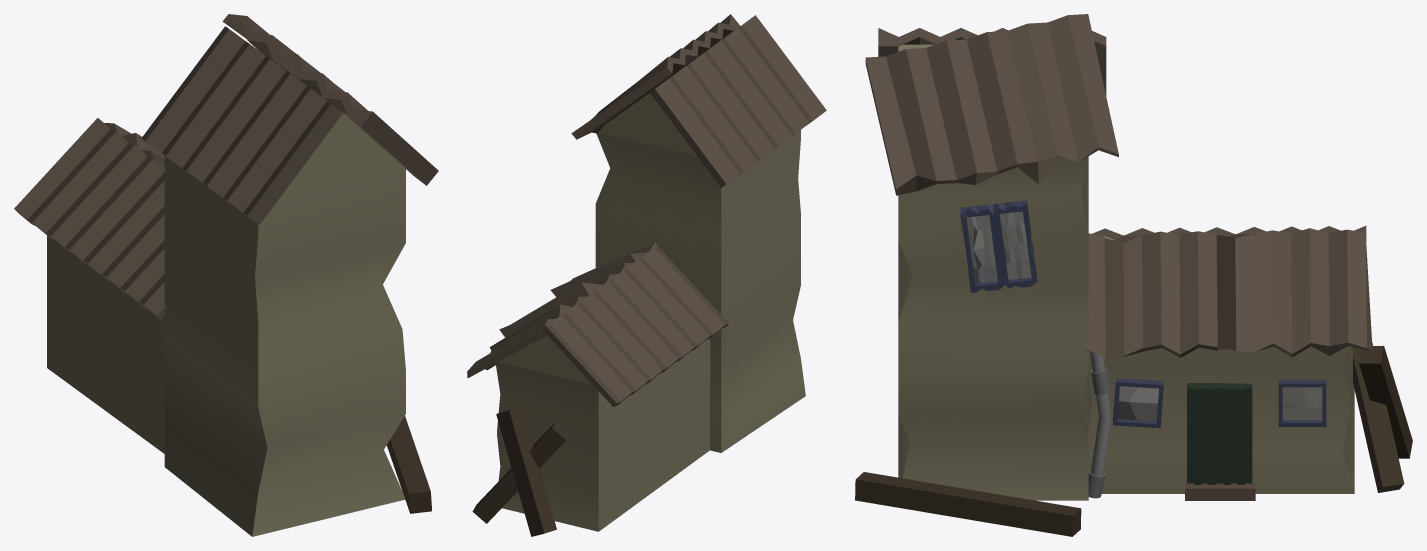
File: HOUSE 1 DAMAGED brown roof.fbx
The picture shows the model from 3 angles, left to right: view 1: azimuth 30°, elevation 25°; view 2: azimuth 150°, elevation 25°; view 3: azimuth 270°, elevation 25°; orthographic projection. The views are drawn at different scales.
Parts seen in each view (by area): view 1: pCube1, pCube4, pCube6, pCube2, pCube3, pCube11, pCube5; view 2: pCube1, pCube2, pCube4, pCube6, pCube14, pCube5, pCube3; view 3: pCube1, pCube5, pCube3, pCube2, pCube11, pCube7, pCube10, pCube14, pCube8, pCube9, pCube4, pCylinder1 (+2 smaller).
Part boxes in pixels (x1,y1,x2,y2): pCube1: [164, 78, 405, 536]; pCube4: [141, 26, 342, 224]; pCube6: [14, 118, 165, 319]; pCube2: [47, 235, 164, 453]; pCube3: [222, 14, 438, 185]; pCube11: [386, 416, 431, 513]; pCube5: [104, 123, 164, 167]; pCube1: [595, 93, 805, 452]; pCube2: [495, 258, 710, 531]; pCube4: [650, 15, 826, 187]; pCube6: [542, 246, 729, 406]; pCube14: [472, 406, 568, 536]; pCube5: [467, 242, 657, 377]; pCube3: [571, 14, 740, 139]; pCube1: [898, 44, 1088, 500]; pCube5: [1086, 228, 1372, 358]; pCube3: [865, 14, 1118, 195]; pCube2: [1087, 236, 1354, 493]; pCube11: [855, 472, 1081, 536]; pCube7: [1187, 383, 1252, 484]; pCube10: [960, 200, 1037, 292]; pCube14: [1352, 341, 1412, 492]; pCube8: [1113, 378, 1163, 428]; pCube9: [1278, 379, 1326, 426]; pCube4: [878, 28, 1106, 95]; pCylinder1: [1089, 352, 1111, 476].
Bounding box in the file's own units: 0.1072 × 0.1835 × 0.2061.
